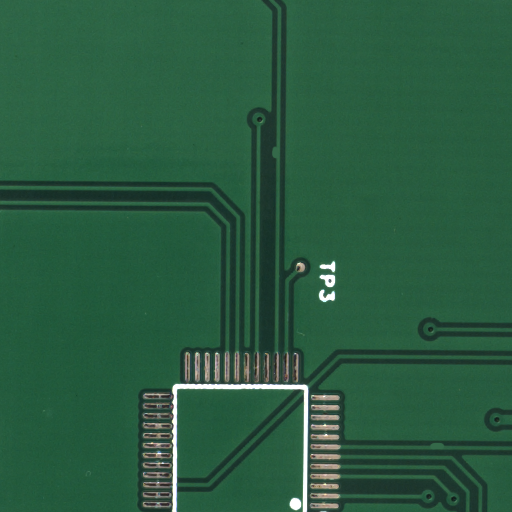Spur: (438, 446, 461, 454), (274, 151, 281, 166)
